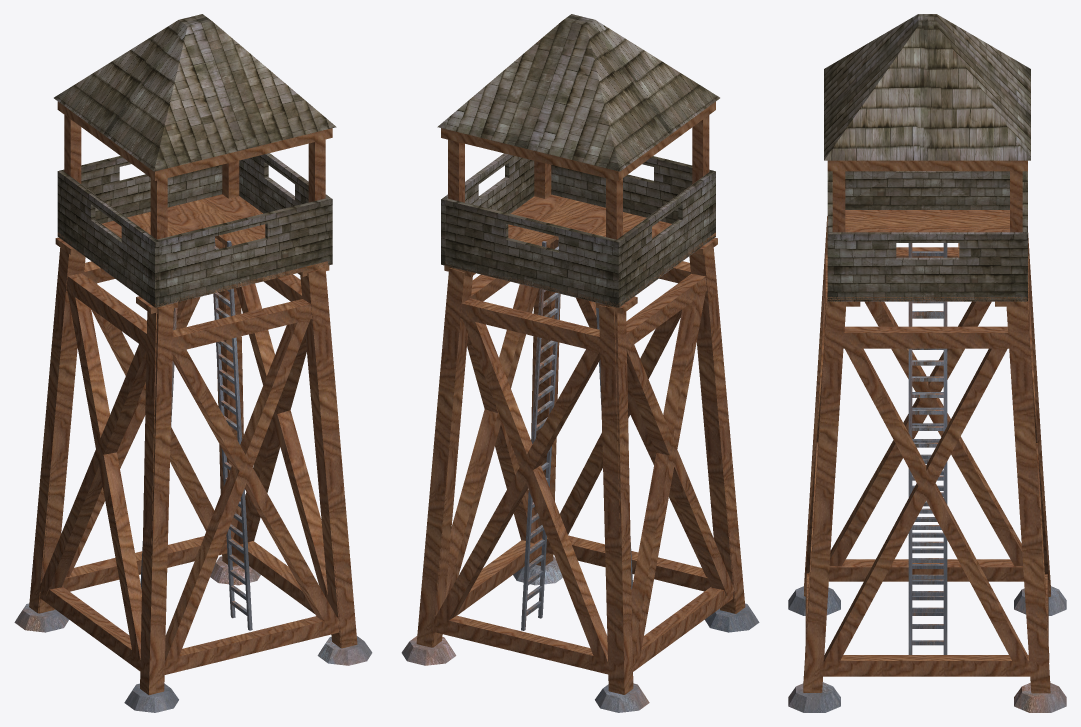
File: D85VT1X9UHDSYASVUM1UY02HA.fbx
3 renders of one model, left to right at view 1: azimuth 30°, elevation 25°; view 2: azimuth 150°, elevation 25°; view 3: azimuth 270°, elevation 25°, orthographic. The views are drawn at different scales.
Visible parts, largest first — view 1: Object_ASHSEN_2.jpg, Object_SHING1.jpg, Object_PLATEOX2.jpg; view 2: Object_ASHSEN_2.jpg, Object_SHING1.jpg, Object_PLATEOX2.jpg; view 3: Object_ASHSEN_2.jpg, Object_SHING1.jpg, Object_PLATEOX2.jpg.
Part boxes in pixels (x1=…): Object_ASHSEN_2.jpg: x1=29, y1=101, x2=357, y2=694; Object_SHING1.jpg: x1=54, y1=14, x2=336, y2=307; Object_PLATEOX2.jpg: x1=14, y1=237, x2=372, y2=712; Object_ASHSEN_2.jpg: x1=416, y1=101, x2=745, y2=694; Object_SHING1.jpg: x1=437, y1=14, x2=719, y2=307; Object_PLATEOX2.jpg: x1=401, y1=237, x2=759, y2=712; Object_ASHSEN_2.jpg: x1=803, y1=160, x2=1050, y2=693; Object_SHING1.jpg: x1=824, y1=14, x2=1030, y2=301; Object_PLATEOX2.jpg: x1=788, y1=243, x2=1066, y2=712.
Bounding box in the file's own units: 1.01 × 2.5 × 0.9949.
